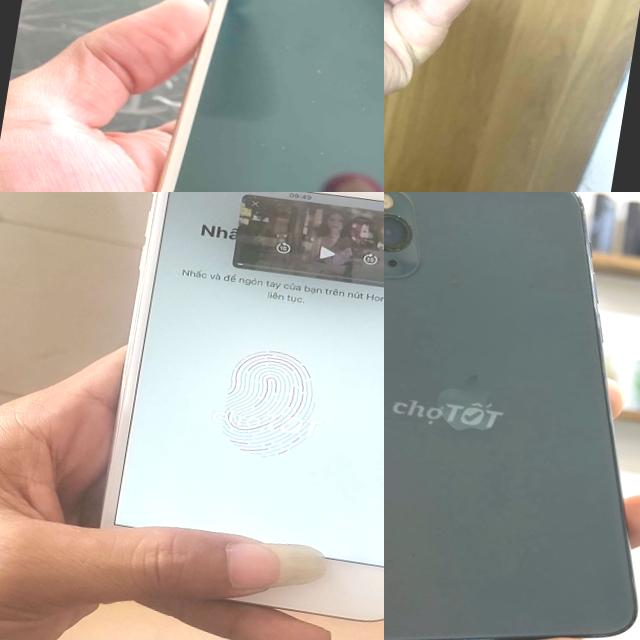scratch: (438, 270, 470, 302), (571, 259, 610, 284), (566, 193, 590, 225), (386, 234, 416, 257), (384, 207, 414, 225)
